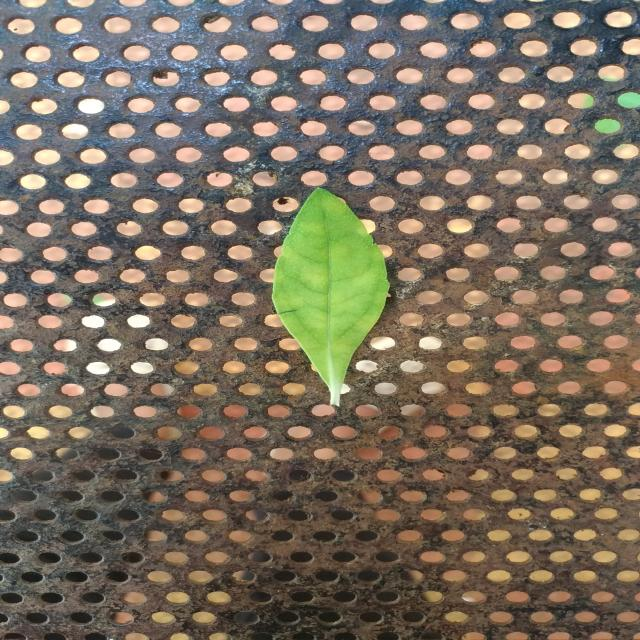bringaraja: (273, 189, 389, 405)
